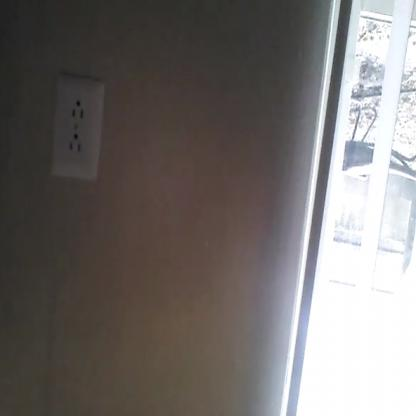OUTLET: (51, 81, 105, 179)
